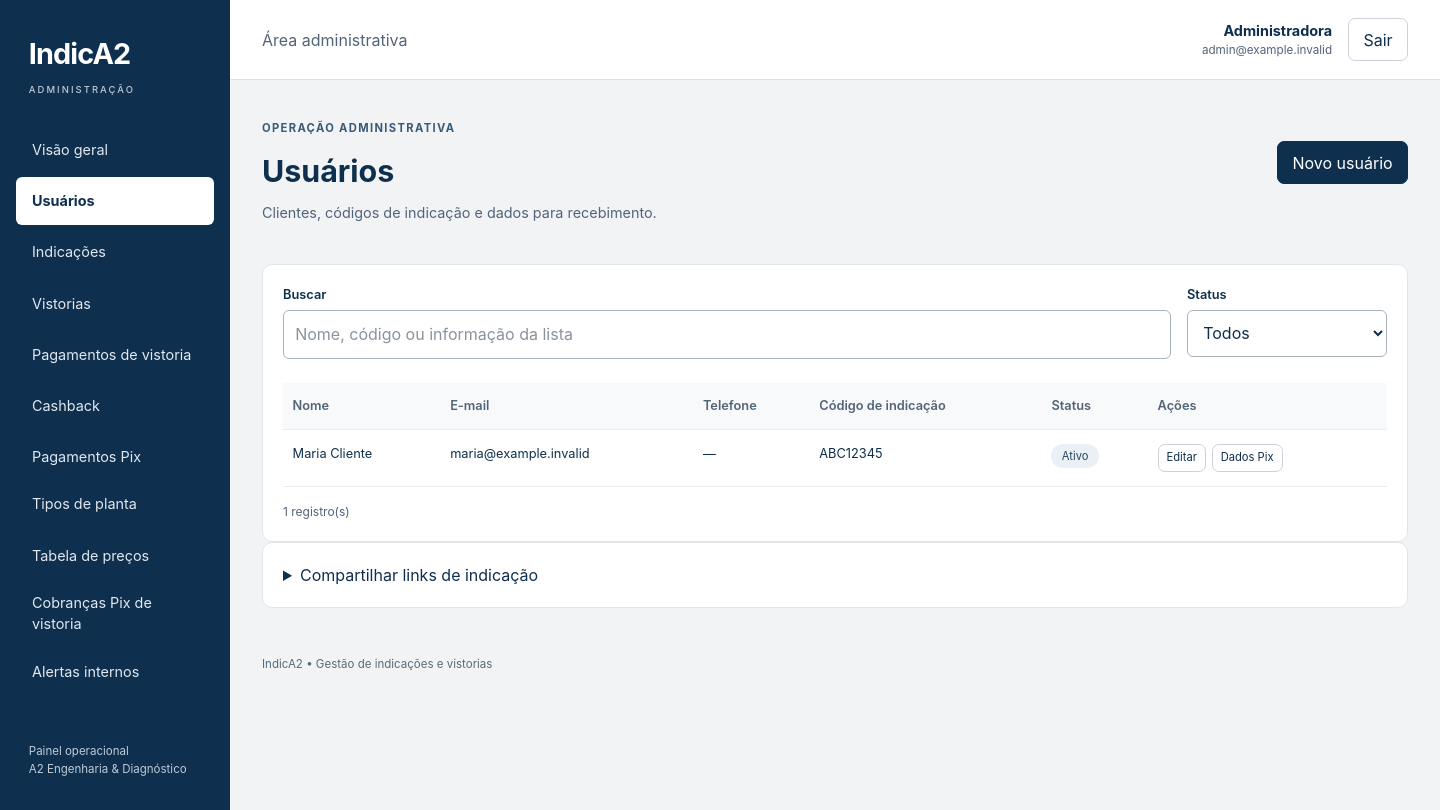
Test: Fluxos administrativos via HTTP › edita usuário sem consultar recursos não relacionados mesmo com Pix indisponível
Expected: the text "Maria Cliente" is shown, [283, 430, 440, 487]
Click the button "Editar".
click(1182, 458)  # box [1158, 444, 1206, 472]
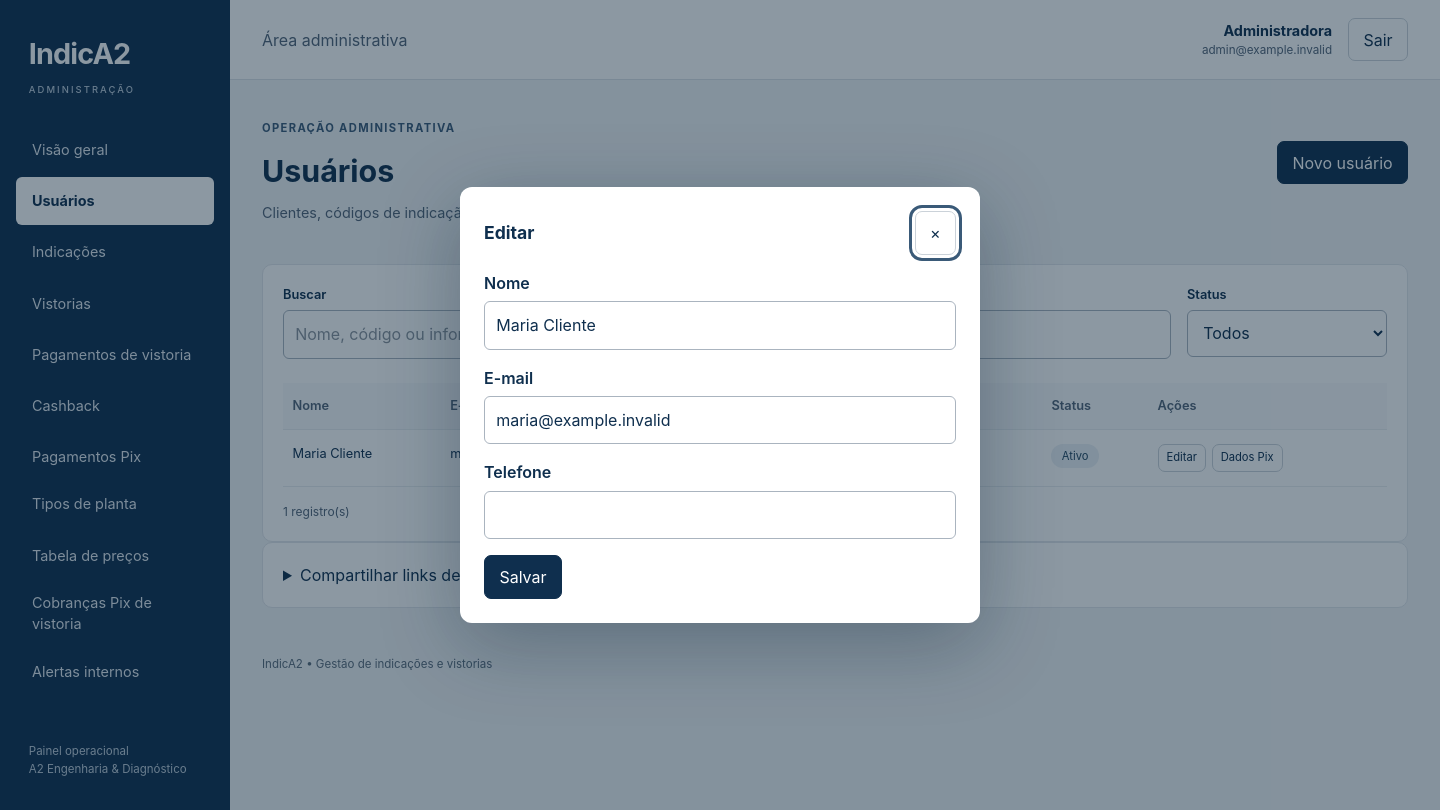
Click the button "Salvar".
click(523, 577)  # box [484, 555, 562, 599]
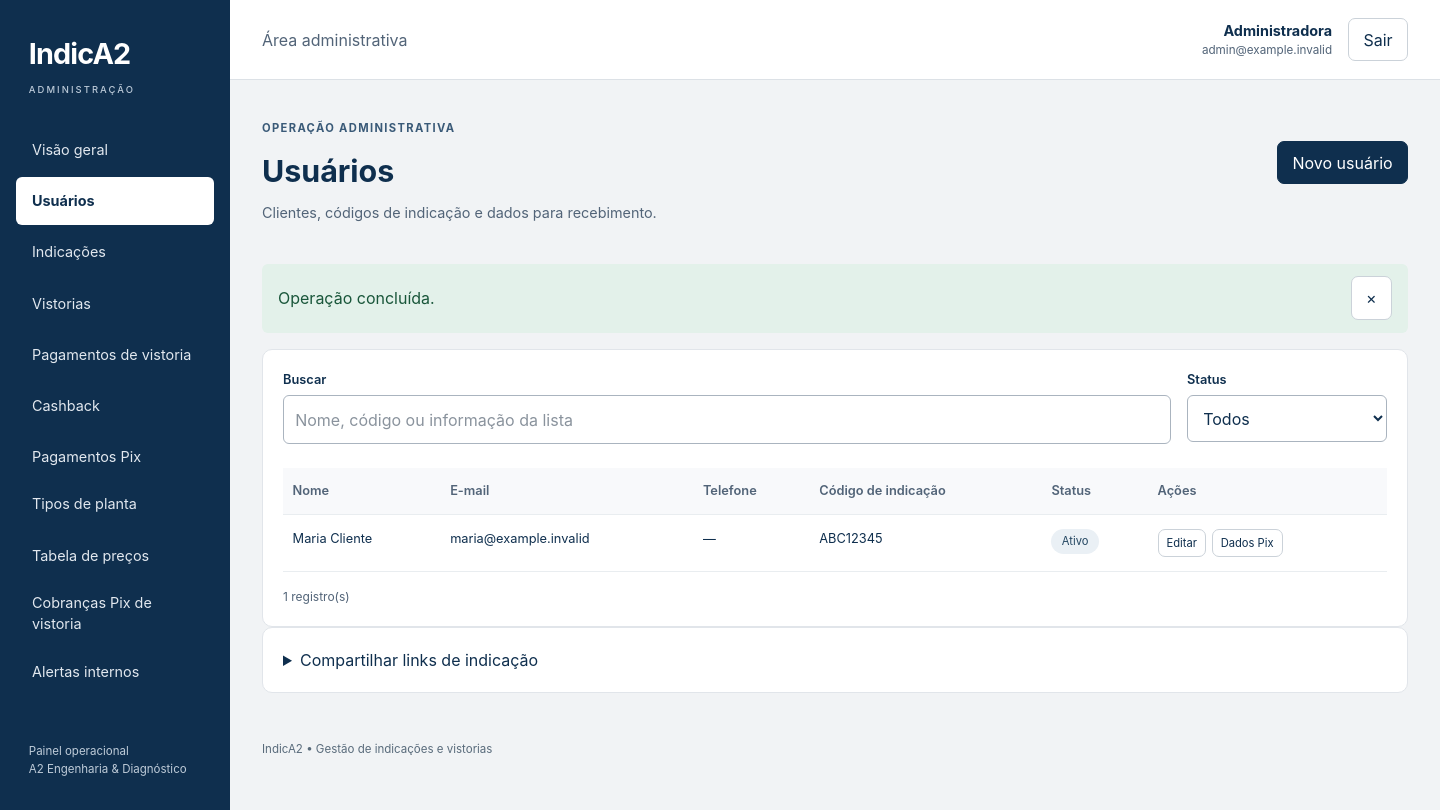
Expected: the text "Operação concluída." is shown, [278, 288, 435, 308]
